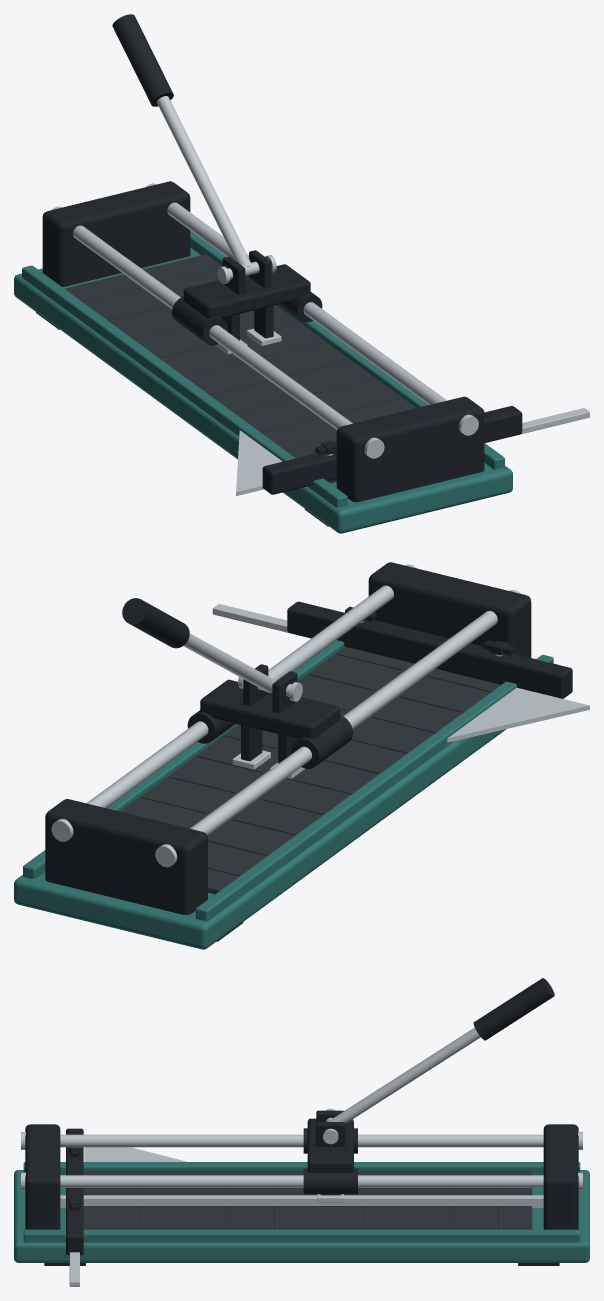
File: full.glb
3 views of the same model, one above another, from view 1: azimuth 30°, elevation 25°; view 2: azimuth 150°, elevation 25°; view 3: azimuth 270°, elevation 25° (orthographic). The views are drawn at different scales.
Visible parts, largest first — view 1: Main ribbed base, Separate rubber support bed -0.066, End rail tower -0.405, End rail tower 0.405, Separate rubber support bed 0.066, Long structural rib -0.125, Parallel guide rail -0.075, Carriage bridge, Parallel guide rail 0.075, Perpendicular fence, Long diagonal lever, Long structural rib 0.125 (+4 smaller); view 2: Separate rubber support bed -0.066, Main ribbed base, End rail tower 0.405, Separate rubber support bed 0.066, End rail tower -0.405, Perpendicular fence, Long structural rib -0.125, Parallel guide rail -0.075, Parallel guide rail 0.075, Carriage bridge, Flat triangular guide wing, Long structural rib 0.125 (+8 smaller); view 3: Main ribbed base, Separate rubber support bed 0.066, Long structural rib 0.125, Parallel guide rail -0.075, Parallel guide rail 0.075, Separate rubber support bed -0.066, Central contact spine, Long structural rib -0.125, End rail tower -0.405, End rail tower 0.405, Long diagonal lever, Shaped lever grip (+5 smaller).
Boxes of the visible parts, left/top/right/bottom form: Main ribbed base: left=14, top=247, right=512, bottom=533; Separate rubber support bed -0.066: left=64, top=274, right=336, bottom=483; End rail tower -0.405: left=336, top=396, right=484, bottom=502; End rail tower 0.405: left=42, top=181, right=190, bottom=286; Separate rubber support bed 0.066: left=143, top=254, right=416, bottom=423; Long structural rib -0.125: left=22, top=265, right=347, bottom=507; Parallel guide rail -0.075: left=73, top=225, right=352, bottom=429; Carriage bridge: left=183, top=264, right=310, bottom=318; Parallel guide rail 0.075: left=167, top=202, right=446, bottom=404; Perpendicular fence: left=262, top=406, right=522, bottom=494; Long diagonal lever: left=156, top=96, right=251, bottom=266; Long structural rib 0.125: left=190, top=231, right=504, bottom=469; Separate rubber support bed -0.066: left=207, top=669, right=500, bottom=894; Main ribbed base: left=14, top=658, right=558, bottom=949; End rail tower 0.405: left=45, top=799, right=207, bottom=914; Separate rubber support bed 0.066: left=120, top=646, right=414, bottom=828; End rail tower -0.405: left=368, top=562, right=531, bottom=657; Perpendicular fence: left=287, top=601, right=572, bottom=698; Long structural rib -0.125: left=195, top=654, right=553, bottom=921; Parallel guide rail -0.075: left=190, top=611, right=497, bottom=835; Parallel guide rail 0.075: left=86, top=585, right=393, bottom=808; Carriage bridge: left=200, top=679, right=340, bottom=738; Flat triangular guide wing: left=447, top=687, right=589, bottom=742; Long structural rib 0.125: left=23, top=640, right=344, bottom=878; Main ribbed base: left=14, top=1170, right=589, bottom=1262; Separate rubber support bed 0.066: left=83, top=1206, right=532, bottom=1229; Long structural rib 0.125: left=23, top=1229, right=580, bottom=1242; Parallel guide rail -0.075: left=60, top=1134, right=543, bottom=1147; Parallel guide rail 0.075: left=60, top=1175, right=543, bottom=1187; Separate rubber support bed -0.066: left=83, top=1170, right=532, bottom=1195; Central contact spine: left=60, top=1195, right=543, bottom=1207; Long structural rib -0.125: left=23, top=1162, right=580, bottom=1174; End rail tower -0.405: left=25, top=1124, right=60, bottom=1229; End rail tower 0.405: left=543, top=1124, right=578, bottom=1229; Long diagonal lever: left=328, top=1027, right=480, bottom=1123; Shaped lever grip: left=473, top=978, right=554, bottom=1040.
Bounding box in the file's own units: 0.55 × 0.4339 × 0.9.
